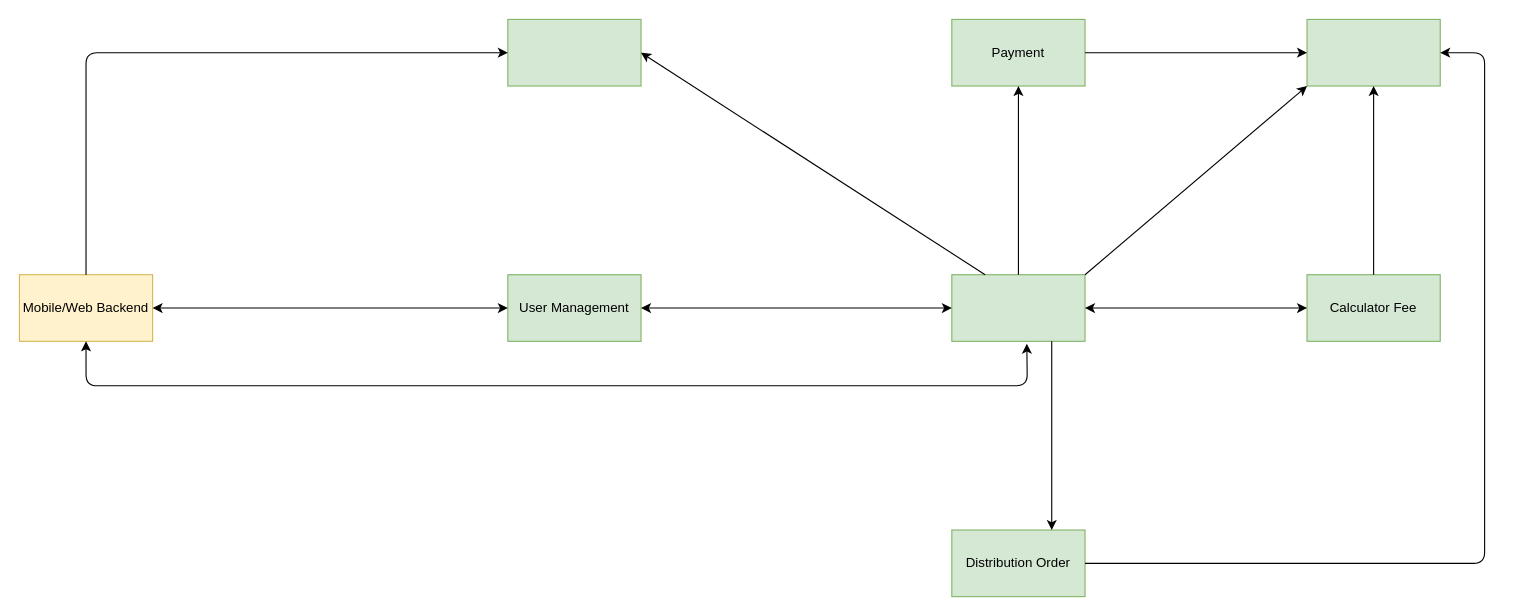
The diagram is 1513 pixels wide and 616 high, and some of its shapes have lost their labels. Here are the shapes that lost their labels. From the top down, the centre of each, then its label:
the point at 574,52: Notify
the point at 1373,52: Data
the point at 1018,307: Order Management
